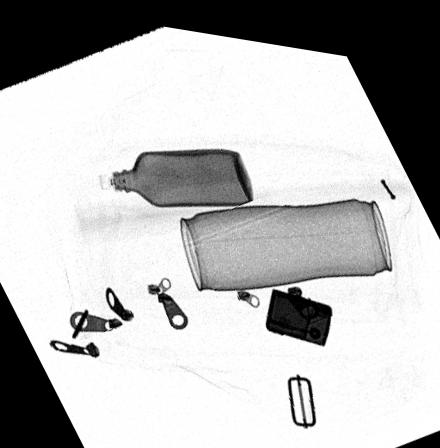Lighter: (264, 277, 333, 335)
